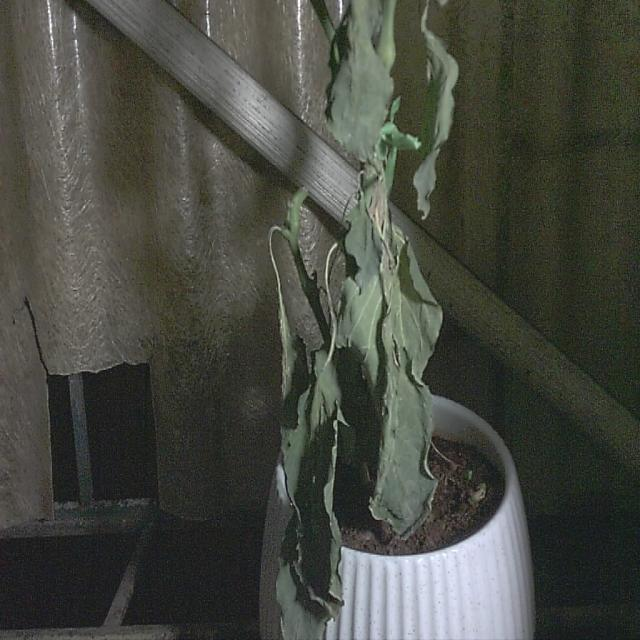Leaf: (367, 268, 439, 539), (280, 356, 346, 622)
